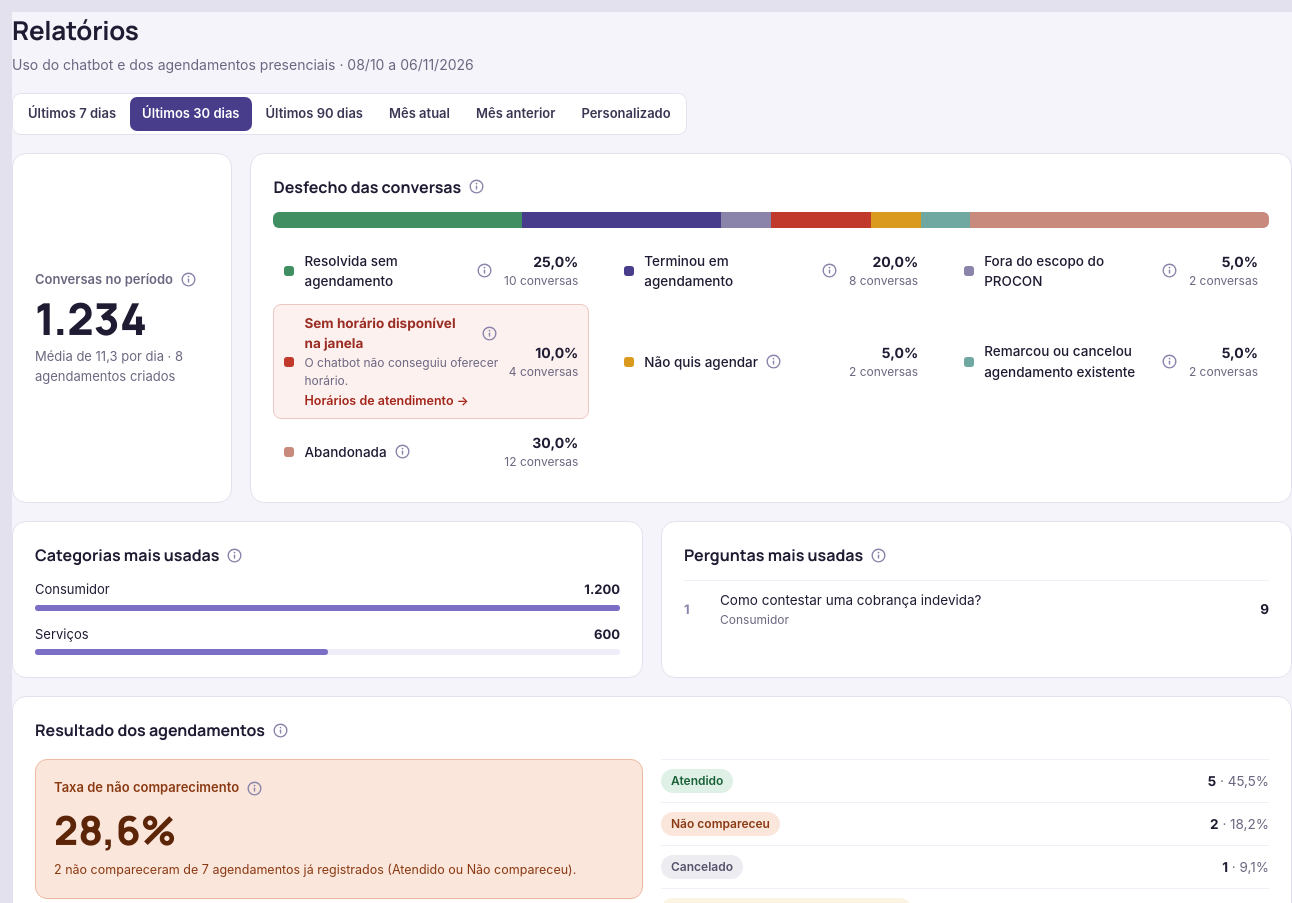
Test case: Reports: cartão Desfecho das conversas › explica Terminou em agendamento em um tooltip
Expected: the heading "Desfecho das conversas" is shown, top-left (274, 176), bottom-right (486, 198)
Click the button named "Definição de Terminou em agendamento" at (830, 271), box top-left (820, 263), bottom-right (839, 278)
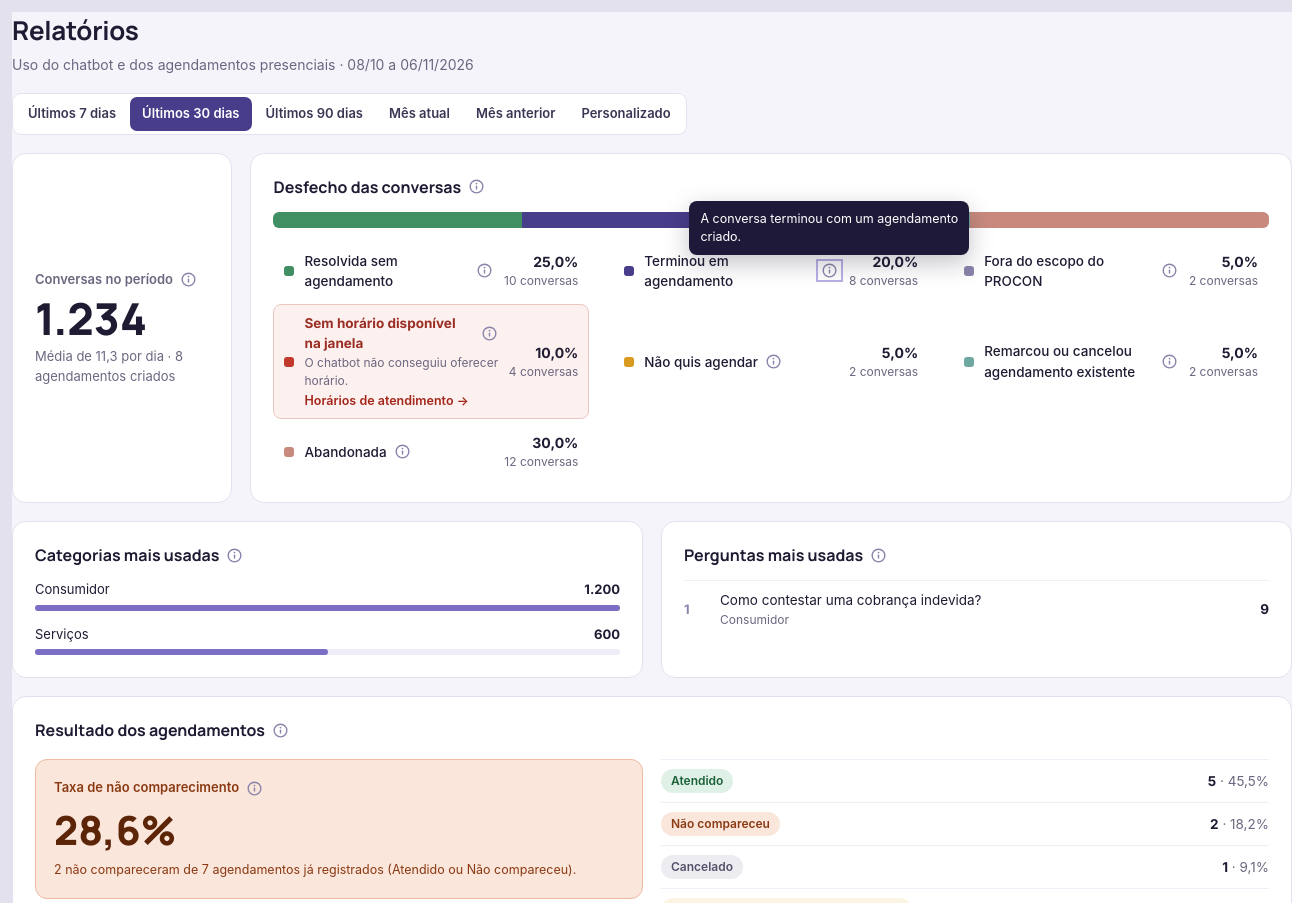
Expected: the tooltip reads "A conversa terminou com um agendamento criado.", top-left (700, 211), bottom-right (958, 244)
